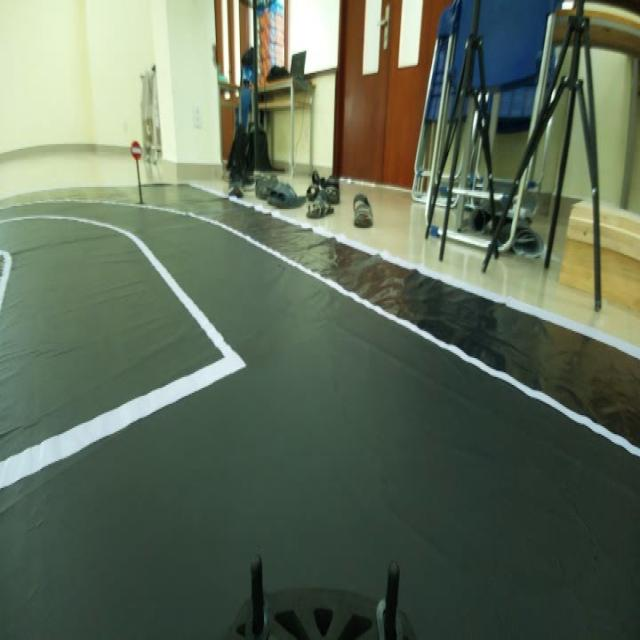no_entry: (128, 137, 147, 170)
